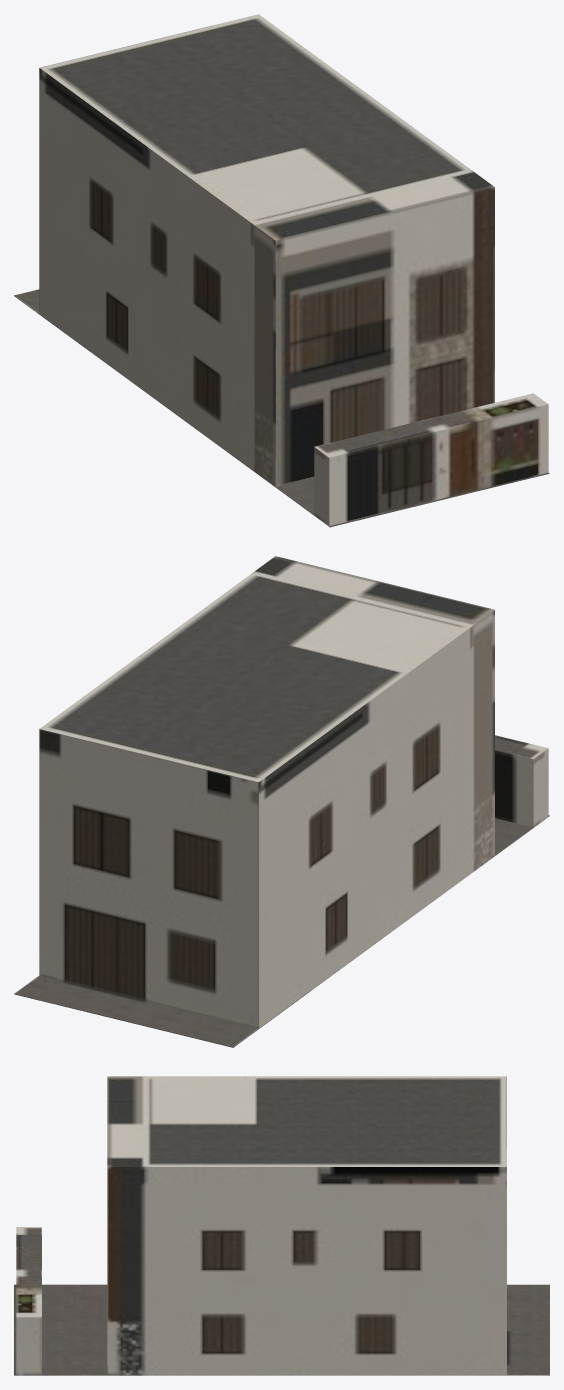
Rendered from house_A_lod2.glb.
3 views of the same model, one above another, from view 1: azimuth 30°, elevation 25°; view 2: azimuth 150°, elevation 25°; view 3: azimuth 270°, elevation 25° (orthographic). The views are drawn at different scales.
Parts seen in each view (by area): view 1: body; view 2: body; view 3: body.
Part boxes in pixels (left/top/right/bottom): body: left=14, top=14, right=549, bottom=527; body: left=14, top=556, right=549, bottom=1047; body: left=14, top=1076, right=549, bottom=1375.
Bounding box in the file's own units: 8 × 8.6 × 20.
Materials: 1 (1 with a texture image).
